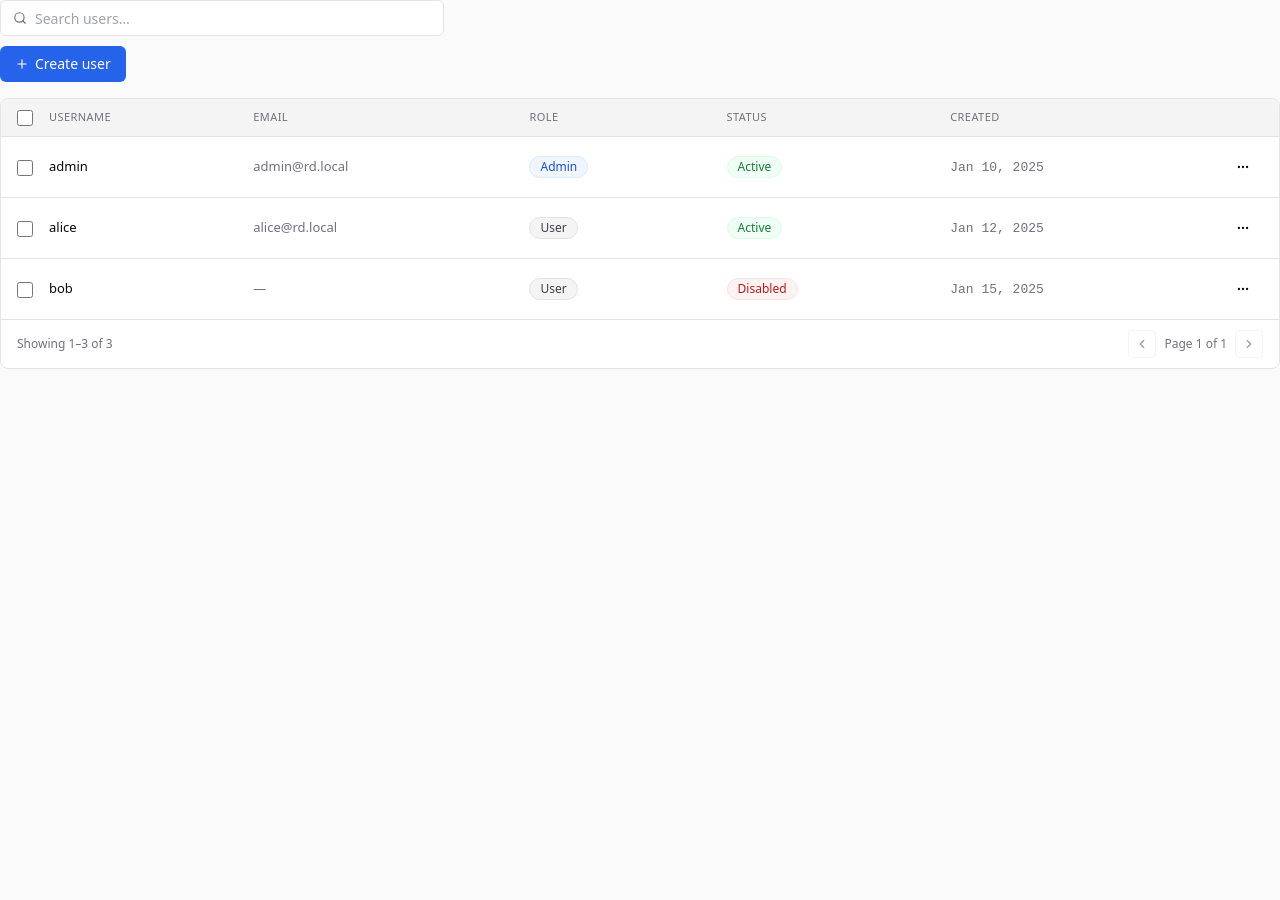
Test: <SettingsUsersTab /> › opens the Edit dialog when clicking the row body (outside the menu)
The width and height of the screenshot is (1280, 900).
// Click on a non-menu cell in the row — alice's username cell.
Click the text "alice": (63, 227) [49,218,77,236]
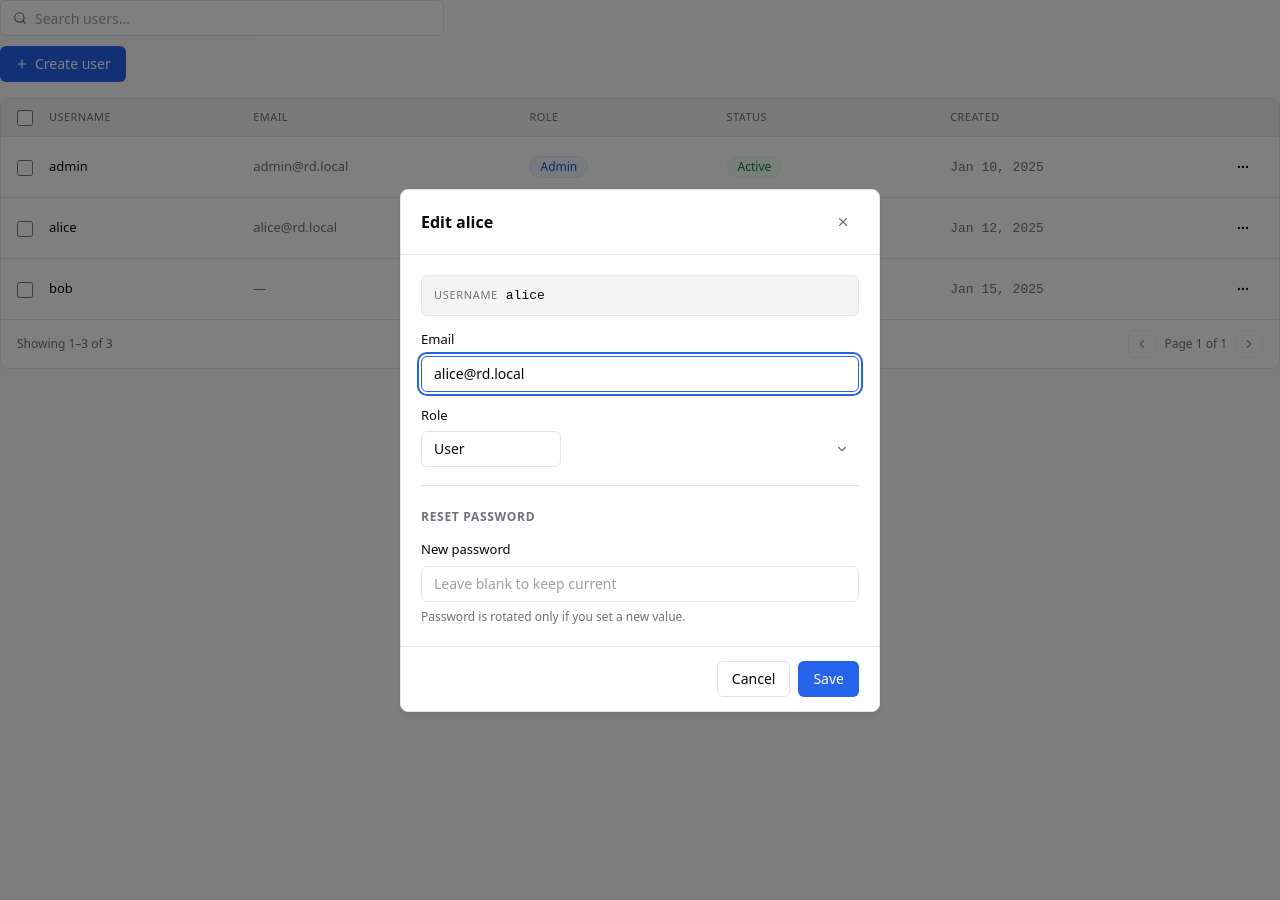
Result: the dialog "Edit alice" is shown at [400,188,880,712]
